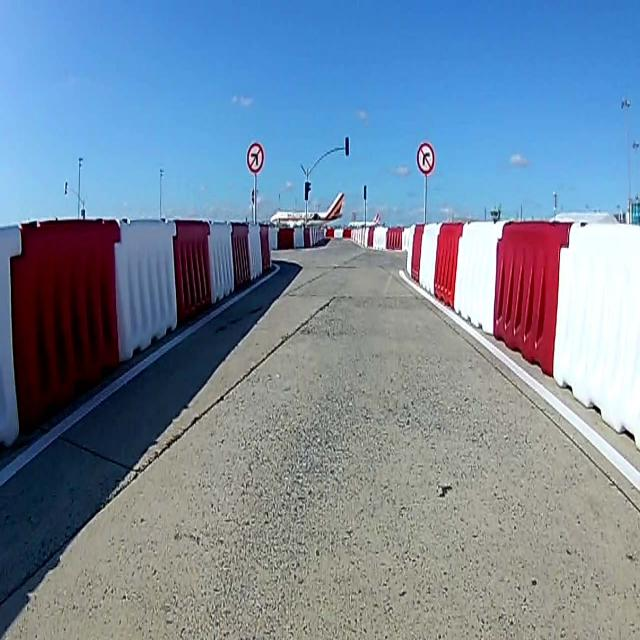sagadonulmez: (418, 142, 433, 174)
soladonulmez: (247, 142, 263, 172)
